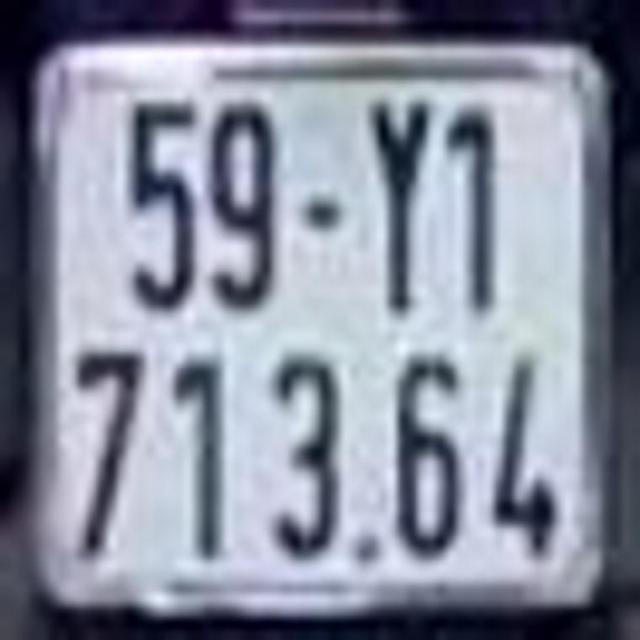1: (166, 353, 231, 569), (443, 111, 504, 308)
3: (274, 347, 344, 560)
4: (495, 345, 561, 561)
5: (123, 93, 205, 310)
6: (394, 354, 465, 561)
7: (59, 340, 149, 580)
9: (207, 101, 276, 312)
Y: (372, 90, 430, 308)
